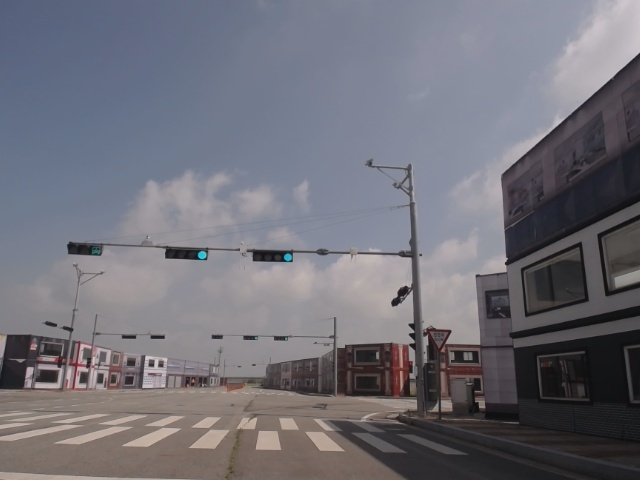straight_green_4: (165, 248, 208, 261), (252, 251, 292, 264)
